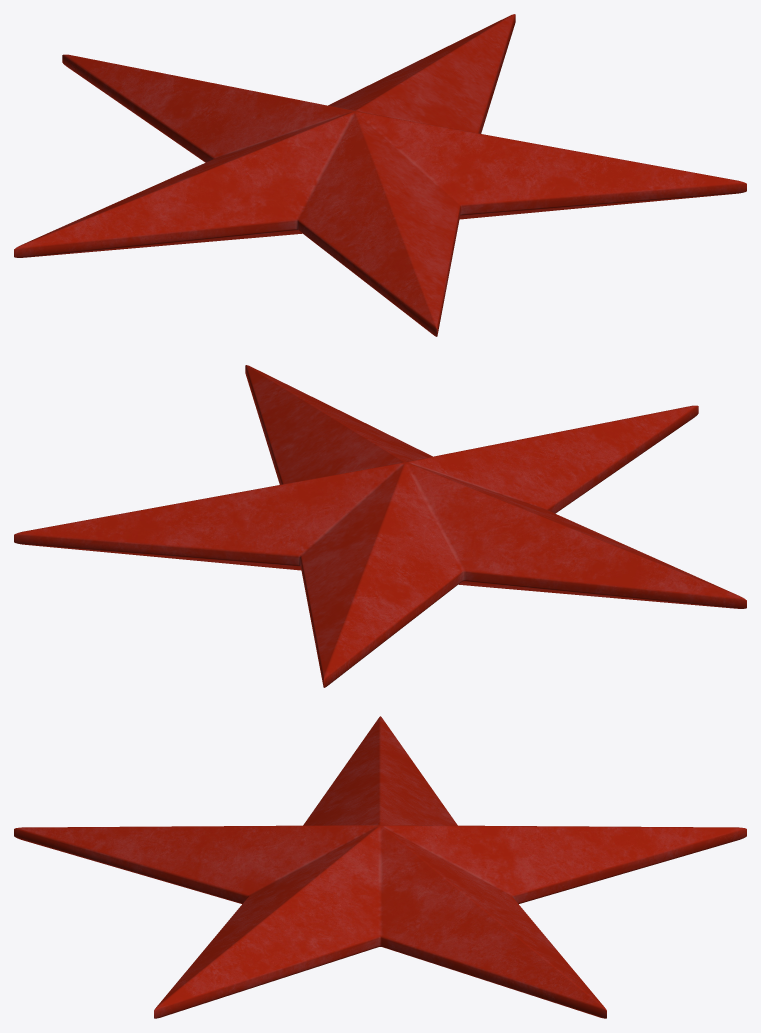
The model's file is red_star.fbx.
3 renders of one model, top to bottom at view 1: azimuth 30°, elevation 25°; view 2: azimuth 150°, elevation 25°; view 3: azimuth 270°, elevation 25°, orthographic. The views are drawn at different scales.
Visible parts, largest first — view 1: Star; view 2: Star; view 3: Star.
Boxes of the visible parts, x1,y1,x2,y2 form: Star: (14, 14, 746, 336); Star: (14, 365, 746, 687); Star: (14, 716, 746, 1018).
Size of the model in its own units: 180 by 32.61 by 190.
